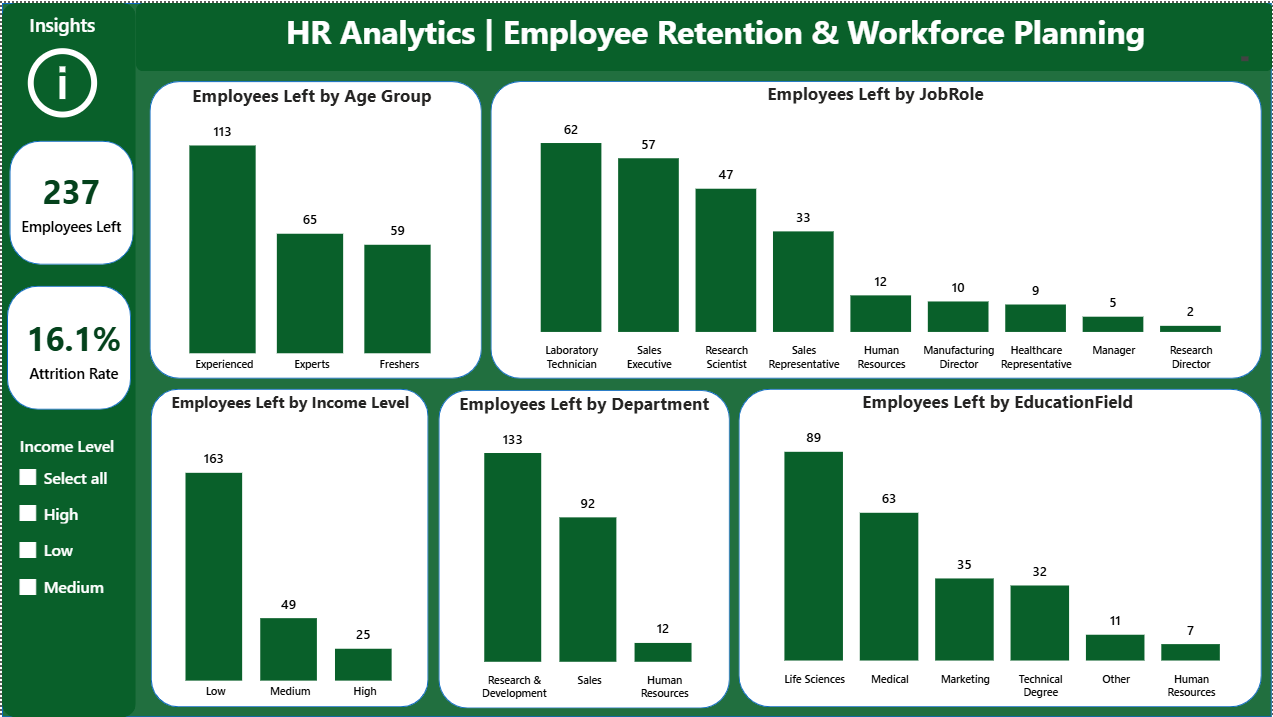

The page's visual inventory and layout, read from the dashboard file:
{"tool":"powerbi","page":{"name":"Hiring Planning","canvas":[1280,720],"ordinal":1},"visuals":[{"type":"shape","box":[0,0,1280,720],"z":0},{"type":"shape","box":[0,0,135,720],"z":1000},{"type":"shape","box":[135,0,1146.2,68.8],"z":2000},{"type":"shape","box":[492.5,78.8,777.5,300],"z":3000},{"type":"columnChart","fields":{"Category":["HR Process.JobRole"],"Y":["Measure(dax).Employees Left"]},"box":[495,78.8,771.2,300],"z":4000},{"type":"shape","box":[148.8,78.8,335,300],"z":5000},{"type":"columnChart","fields":{"Y":["Measure(dax).Employees Left"],"Category":["HR Process.Age Group"]},"box":[148.8,81.2,327.5,300],"z":6000},{"type":"shape","box":[742.5,388.8,527.5,321.2],"z":7000},{"type":"shape","box":[440,390,293.8,321.2],"z":8000},{"type":"shape","box":[150,388.8,280,321.2],"z":9000},{"type":"columnChart","fields":{"Y":["Measure(dax).Employees Left"],"Category":["HR Process.EducationField"]},"box":[742.5,390,522.5,320],"z":10000},{"type":"columnChart","fields":{"Y":["Measure(dax).Employees Left"],"Category":["HR Process.Department"]},"box":[440,391.2,293.8,320],"z":11000},{"type":"columnChart","fields":{"Y":["Measure(dax).Employees Left"],"Category":["HR Process.Income Level"]},"box":[150,391.2,281.2,320],"z":12000},{"type":"textbox","title":"HR Analytics | Employee Workforce Planning","box":[177.5,6.2,1083.8,57.5],"z":13000},{"type":"actionButton","title":"Insights","box":[15,8.8,91.2,113.8],"z":14000},{"type":"slicer","fields":{"Values":["HR Process.Income Level"]},"box":[5,431.2,135,182.5],"z":15000},{"type":"shape","box":[7.5,138.8,125,125],"z":16000},{"type":"card","fields":{"Values":["Measure(dax).Employees Left"]},"box":[10,160,120,81.2],"z":17000},{"type":"shape","box":[5,285,125,125],"z":18000},{"type":"card","fields":{"Values":["Measure(dax).Attrition Rate"]},"box":[12.5,307.5,120,81.2],"z":19000}]}

Visuals, with their boxes in screenshot pixels (x1, y1, x2, y2), scaled from the page's 1280x720 canvas onto the 1273x717 screenshot:
shape: {"x1": 0, "y1": 0, "x2": 1272, "y2": 716}
shape: {"x1": 0, "y1": 0, "x2": 134, "y2": 716}
shape: {"x1": 134, "y1": 0, "x2": 1272, "y2": 69}
shape: {"x1": 490, "y1": 78, "x2": 1263, "y2": 377}
columnChart - HR Process.JobRole x Measure(dax).Employees Left: {"x1": 492, "y1": 78, "x2": 1259, "y2": 377}
shape: {"x1": 148, "y1": 78, "x2": 481, "y2": 377}
columnChart - Measure(dax).Employees Left x HR Process.Age Group: {"x1": 148, "y1": 81, "x2": 474, "y2": 380}
shape: {"x1": 738, "y1": 387, "x2": 1263, "y2": 707}
shape: {"x1": 438, "y1": 388, "x2": 730, "y2": 708}
shape: {"x1": 149, "y1": 387, "x2": 428, "y2": 707}
columnChart - Measure(dax).Employees Left x HR Process.EducationField: {"x1": 738, "y1": 388, "x2": 1258, "y2": 707}
columnChart - Measure(dax).Employees Left x HR Process.Department: {"x1": 438, "y1": 390, "x2": 730, "y2": 708}
columnChart - Measure(dax).Employees Left x HR Process.Income Level: {"x1": 149, "y1": 390, "x2": 429, "y2": 708}
"HR Analytics | Employee Workforce Planning" textbox: {"x1": 177, "y1": 6, "x2": 1254, "y2": 63}
"Insights" actionButton: {"x1": 15, "y1": 9, "x2": 106, "y2": 122}
slicer - HR Process.Income Level: {"x1": 5, "y1": 429, "x2": 139, "y2": 611}
shape: {"x1": 7, "y1": 138, "x2": 132, "y2": 263}
card - Measure(dax).Employees Left: {"x1": 10, "y1": 159, "x2": 129, "y2": 240}
shape: {"x1": 5, "y1": 284, "x2": 129, "y2": 408}
card - Measure(dax).Attrition Rate: {"x1": 12, "y1": 306, "x2": 132, "y2": 387}
